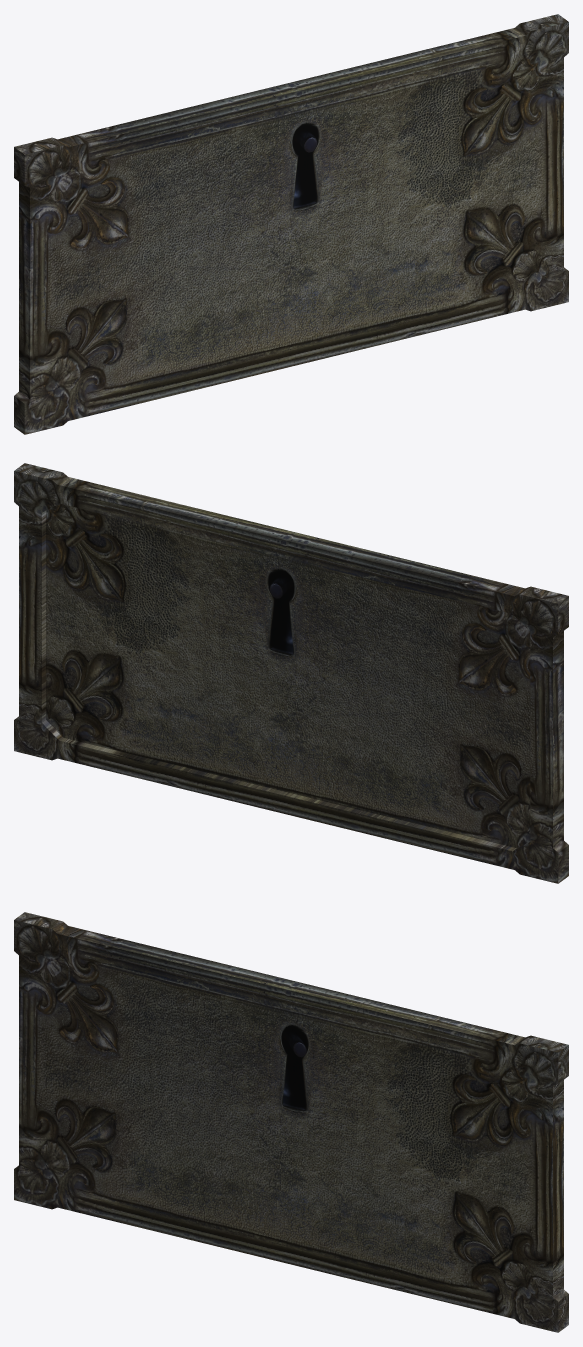
The model's file is TrunkLock.fbx.
3 views of the same model, one above another, from view 1: azimuth 30°, elevation 25°; view 2: azimuth 150°, elevation 25°; view 3: azimuth 330°, elevation 25° (orthographic).
Parts seen in each view (by area): view 1: TrunkLock; view 2: TrunkLock; view 3: TrunkLock.
Part boxes in pixels (left/top/right/bottom): TrunkLock: left=14, top=14, right=568, bottom=434; TrunkLock: left=14, top=463, right=568, bottom=883; TrunkLock: left=14, top=912, right=568, bottom=1332.
Bounding box in the file's own units: 22.42 × 11.03 × 0.7676.
Materials: 1 (1 with a texture image).
